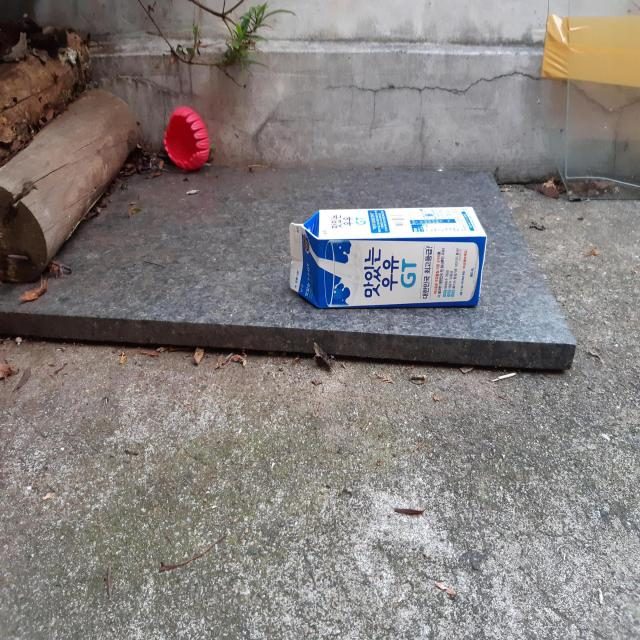paperpack: (290, 206, 486, 307)
